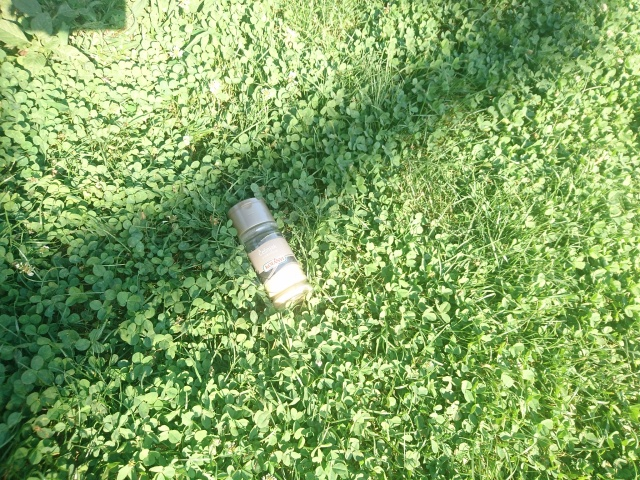Kotanyi Garlic Granules 70g: (223, 194, 316, 312)
